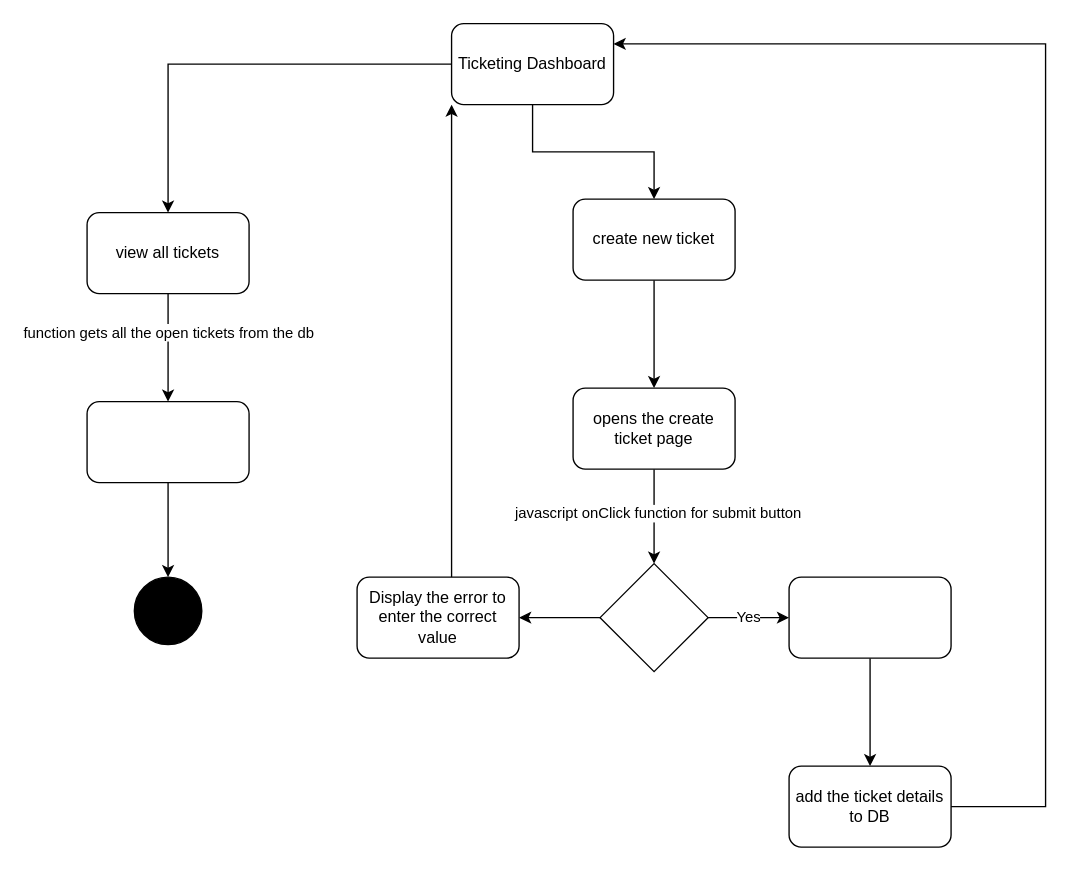
The diagram is 1080 pixels wide and 871 high, and some of its shapes have lost their labels. The centre of each missing label's shape, as x and y in pixels:
"Are all the values valid?" belongs at point (653, 617).
"display all the tickets" belongs at point (167, 441).
"generate a random incident ID" belongs at point (869, 617).
